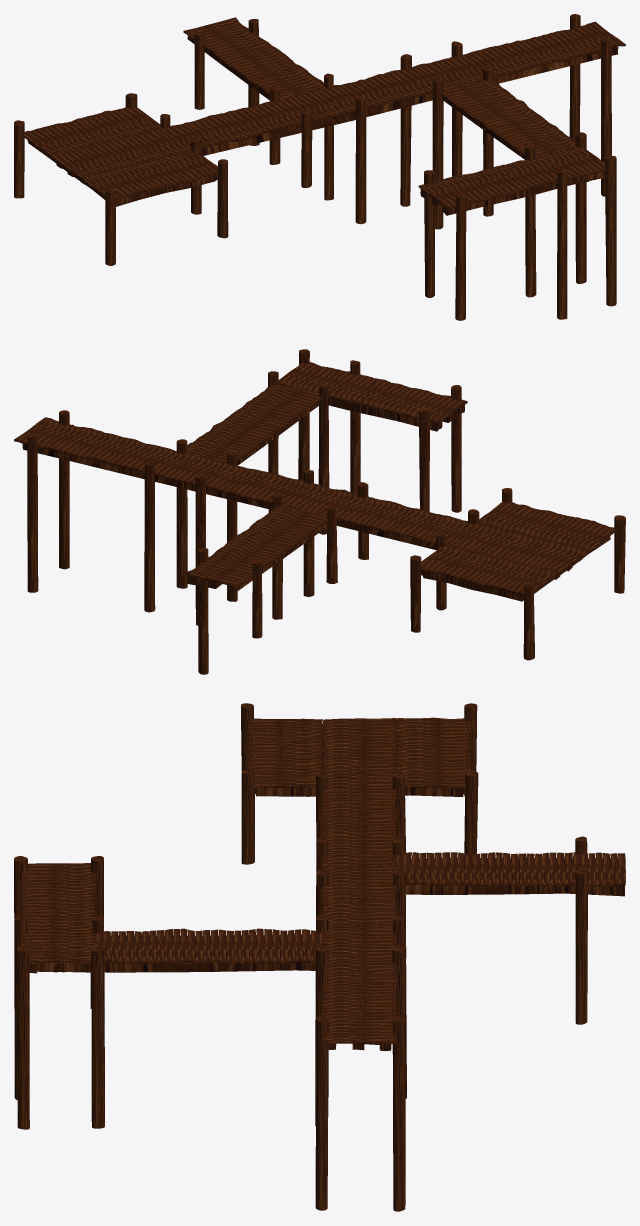
File: Viking-Bootssteg.fbx
3 renders of one model, top to bottom at view 1: azimuth 30°, elevation 25°; view 2: azimuth 150°, elevation 25°; view 3: azimuth 270°, elevation 25°, orthographic. The views are drawn at different scales.
Visible parts, largest first — view 1: Cube.011; view 2: Cube.011; view 3: Cube.011.
Boxes of the visible parts, x1,y1,x2,y2 form: Cube.011: (14, 14, 625, 320); Cube.011: (14, 349, 625, 674); Cube.011: (14, 703, 625, 1211).
Bounding box in the file's own units: 3073 × 843 × 2427.
